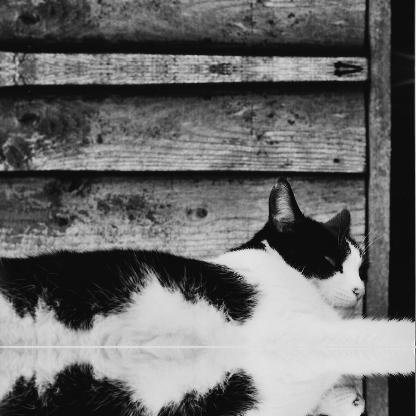Cat: (0, 176, 415, 346), (0, 346, 415, 415)
